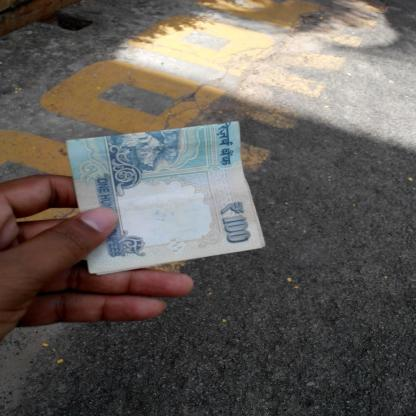Old100Back: (65, 120, 266, 276)
